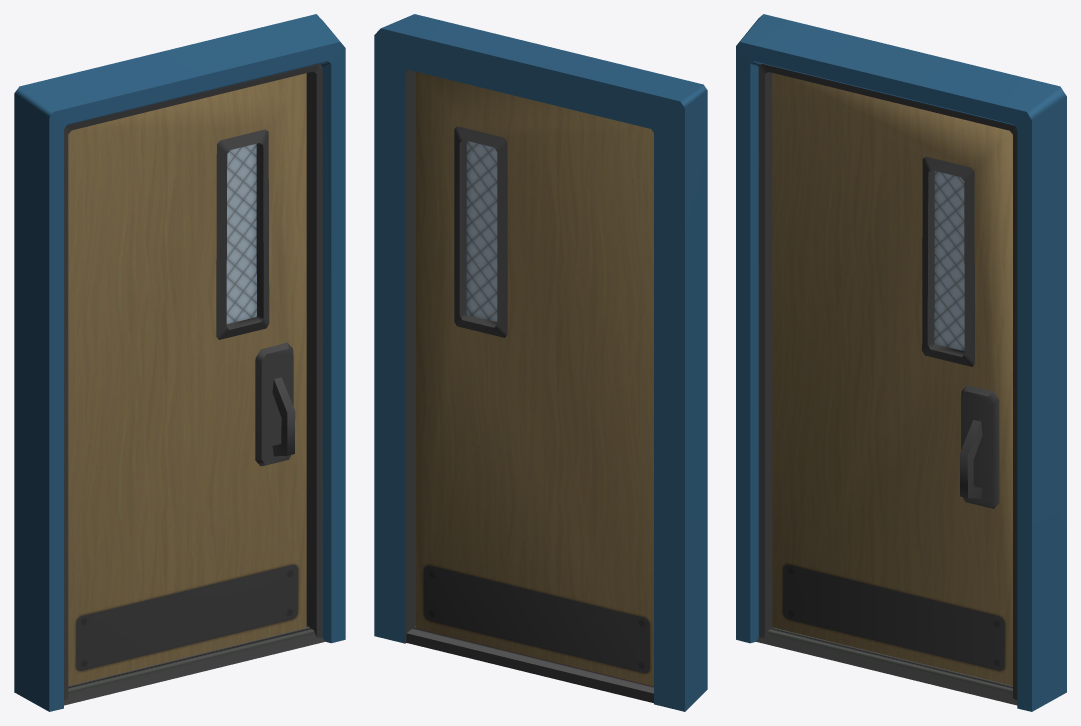
File: door.glb
3 renders of one model, left to right at view 1: azimuth 30°, elevation 25°; view 2: azimuth 150°, elevation 25°; view 3: azimuth 330°, elevation 25°, orthographic.
Visible parts, largest first — view 1: ActivityDoorSingle_LOD1; view 2: ActivityDoorSingle_LOD1; view 3: ActivityDoorSingle_LOD1.
Part boxes in pixels (x1,y1,x2,y2): ActivityDoorSingle_LOD1: (14, 14, 345, 711); ActivityDoorSingle_LOD1: (374, 14, 707, 711); ActivityDoorSingle_LOD1: (736, 14, 1066, 711).
Bounding box in the file's own units: 1.15 × 2.14 × 0.2297.
Materials: 1 (1 with a texture image).
